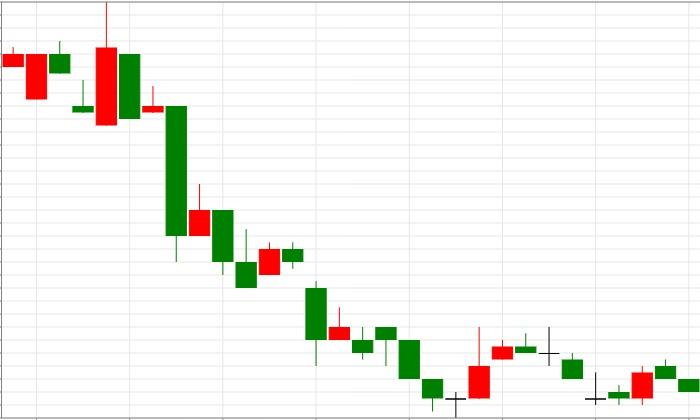morning_star_rise: (282, 242, 489, 417)
